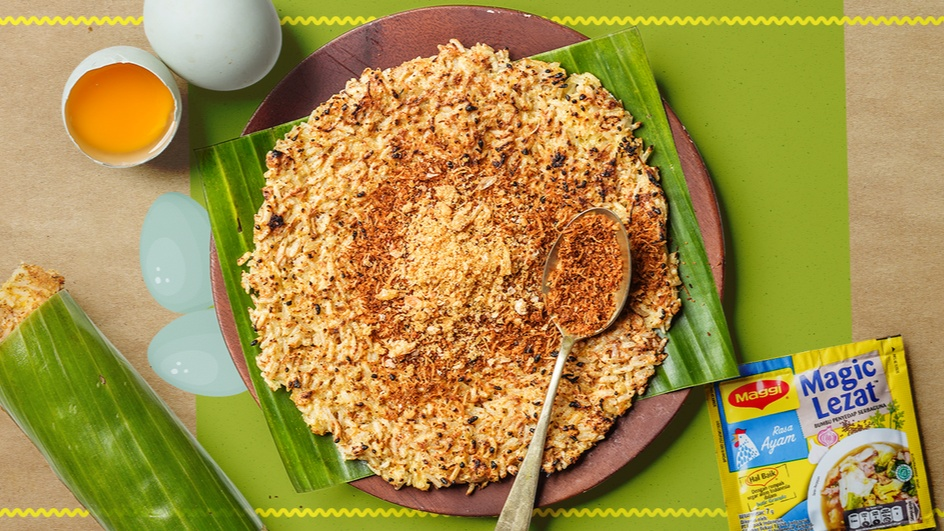kerak_telor: (233, 47, 678, 474)
